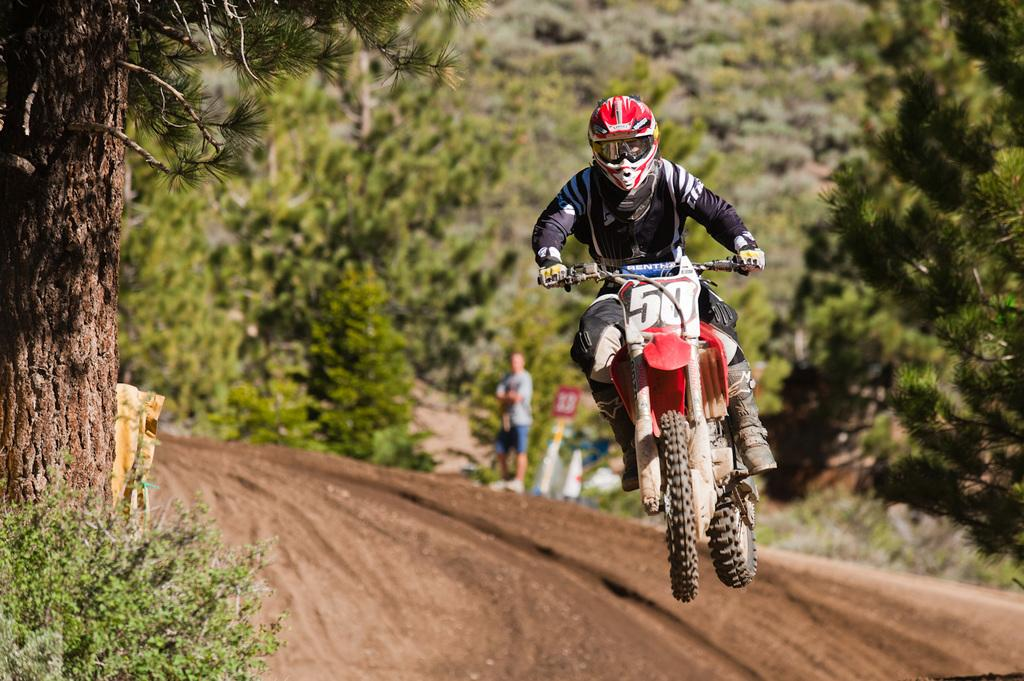helmet: (587, 96, 660, 191)
nohelmet: (508, 351, 527, 374)
